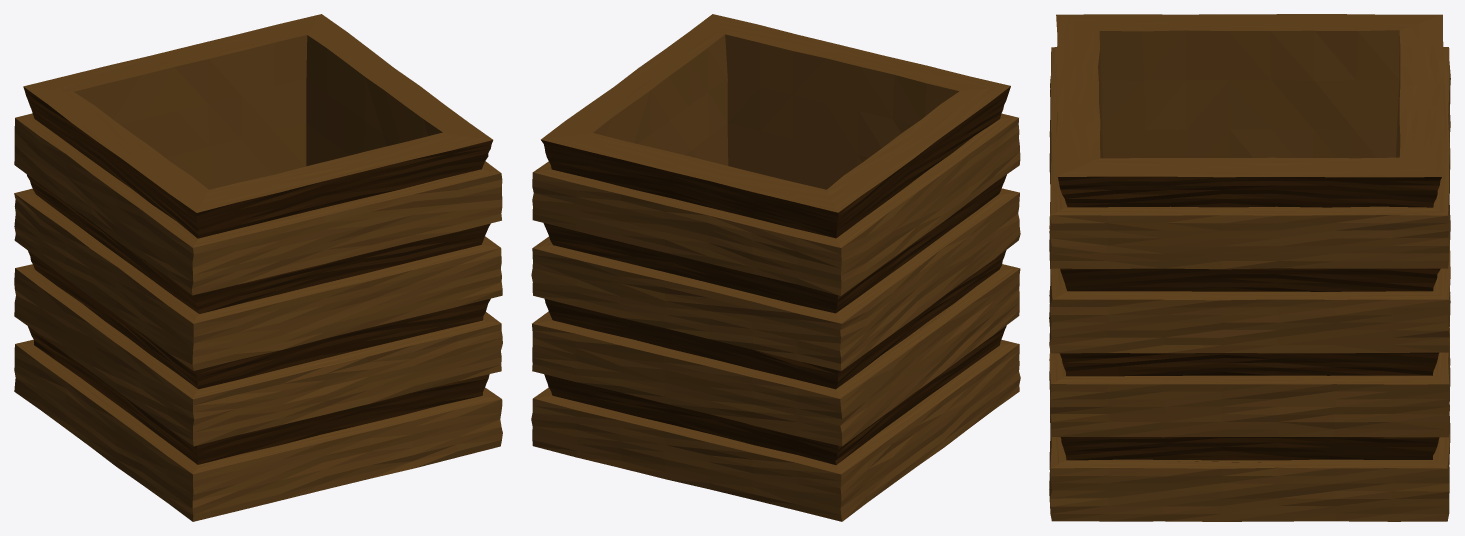
Rendered from Compositor.fbx.
The picture shows the model from 3 angles, left to right: view 1: azimuth 30°, elevation 25°; view 2: azimuth 150°, elevation 25°; view 3: azimuth 270°, elevation 25°; orthographic projection. The views are drawn at different scales.
Parts seen in each view (by area): view 1: Composter; view 2: Composter; view 3: Composter.
Part boxes in pixels (x1,y1,x2,y2): Composter: (14,14,502,521); Composter: (531,14,1020,521); Composter: (1049,14,1450,521).
Size of the model in its own units: 225 by 213 by 225.
